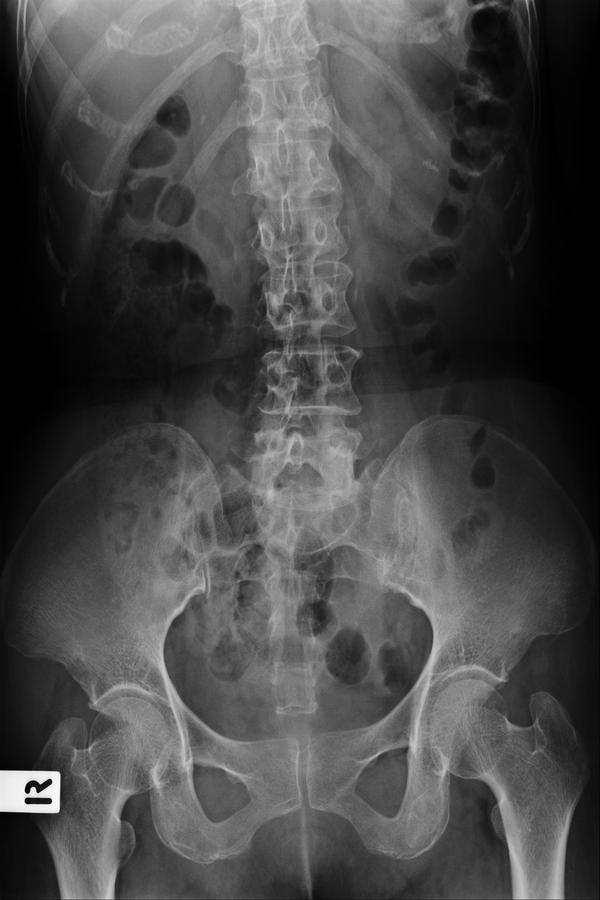lumbar scoliosis: (232, 15, 366, 549)
